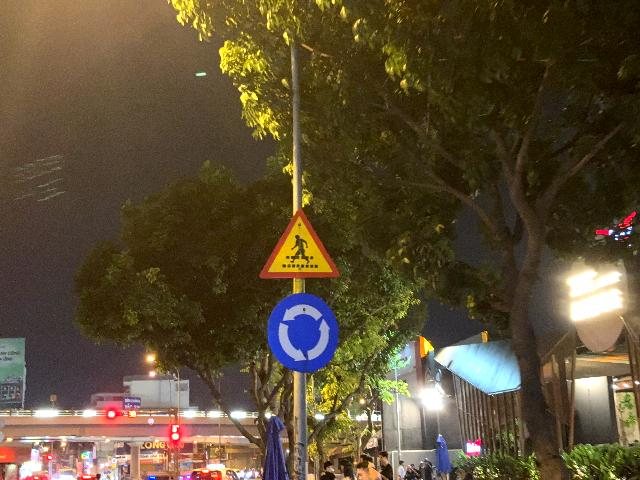duong-nguoi-di-bo-cat-ngang: (258, 206, 340, 278)
noi-giao-nhau-chay-theo-vong-xuyen: (267, 292, 338, 373)
